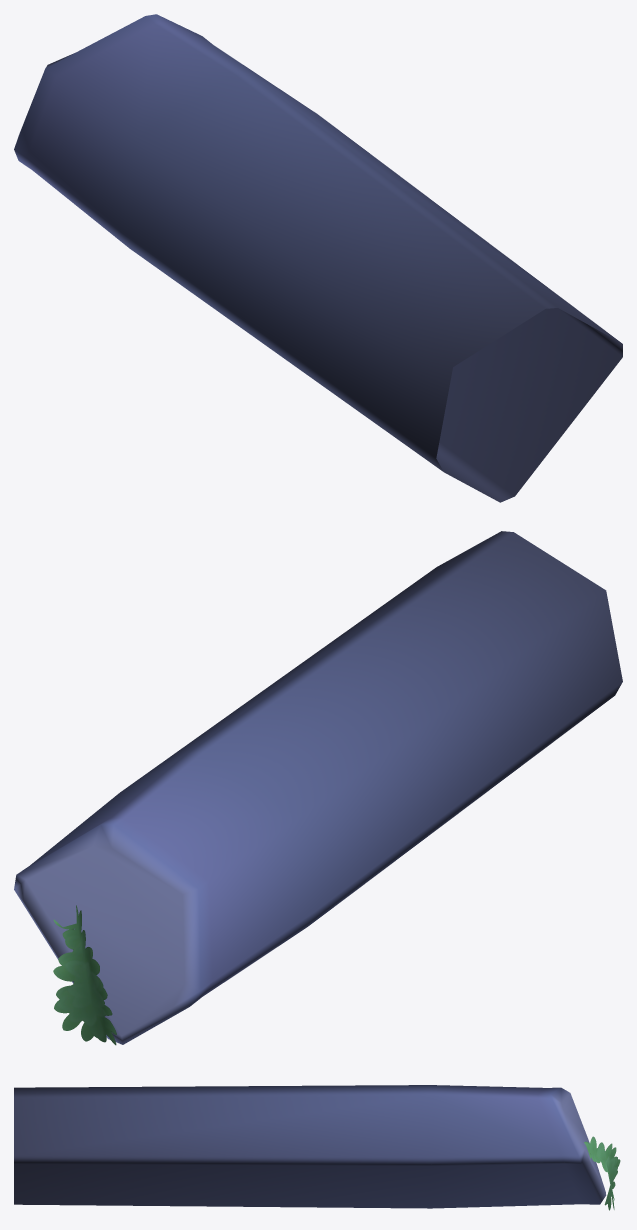
File: StoneLeaf.fbx
3 renders of one model, top to bottom at view 1: azimuth 30°, elevation 25°; view 2: azimuth 150°, elevation 25°; view 3: azimuth 270°, elevation 25°, orthographic. The views are drawn at different scales.
Visible parts, largest first — view 1: Mountain_Cliff_04; view 2: Mountain_Cliff_04, VineLeaf_05; view 3: Mountain_Cliff_04, VineLeaf_05.
Part boxes in pixels (left/top/right/bottom): Mountain_Cliff_04: left=14, top=14, right=622, bottom=502; Mountain_Cliff_04: left=14, top=531, right=622, bottom=1044; VineLeaf_05: left=53, top=905, right=116, bottom=1045; Mountain_Cliff_04: left=14, top=1085, right=606, bottom=1208; VineLeaf_05: left=584, top=1136, right=620, bottom=1210.
Bounding box in the file's own units: 881 × 837 × 3541.
